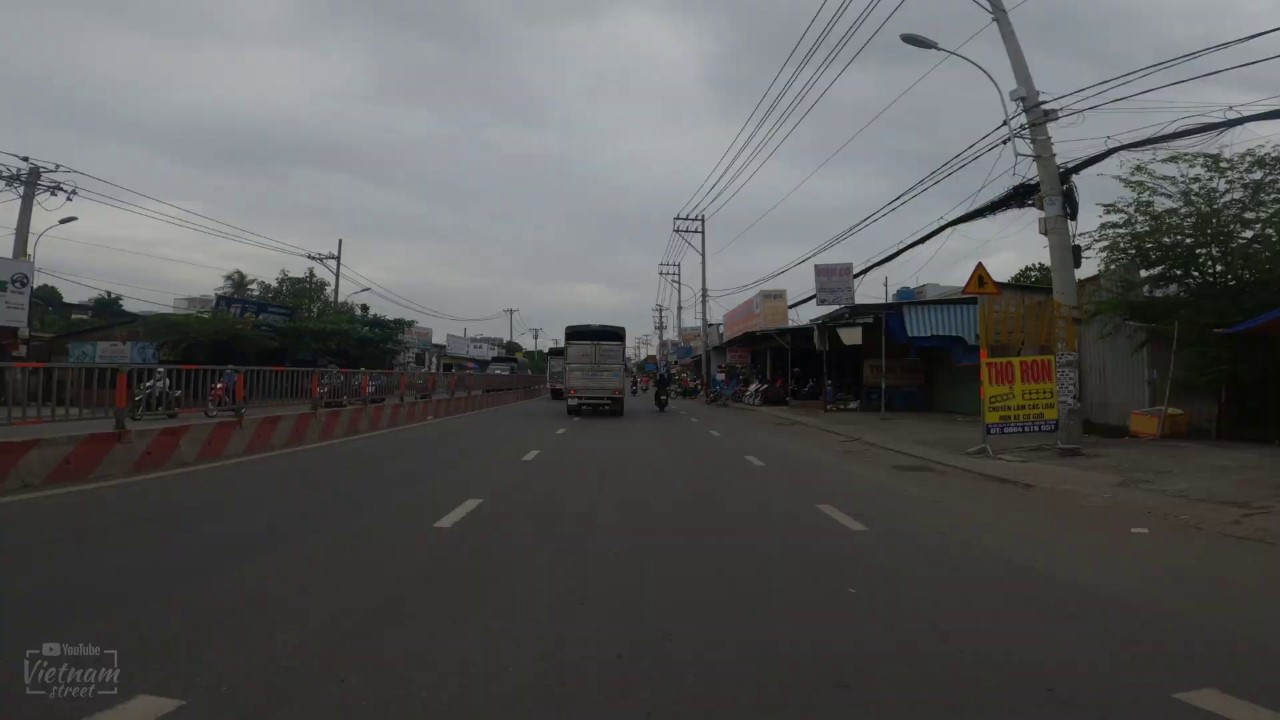giao_khong_uu_tien_phai: (959, 259, 1002, 297)
